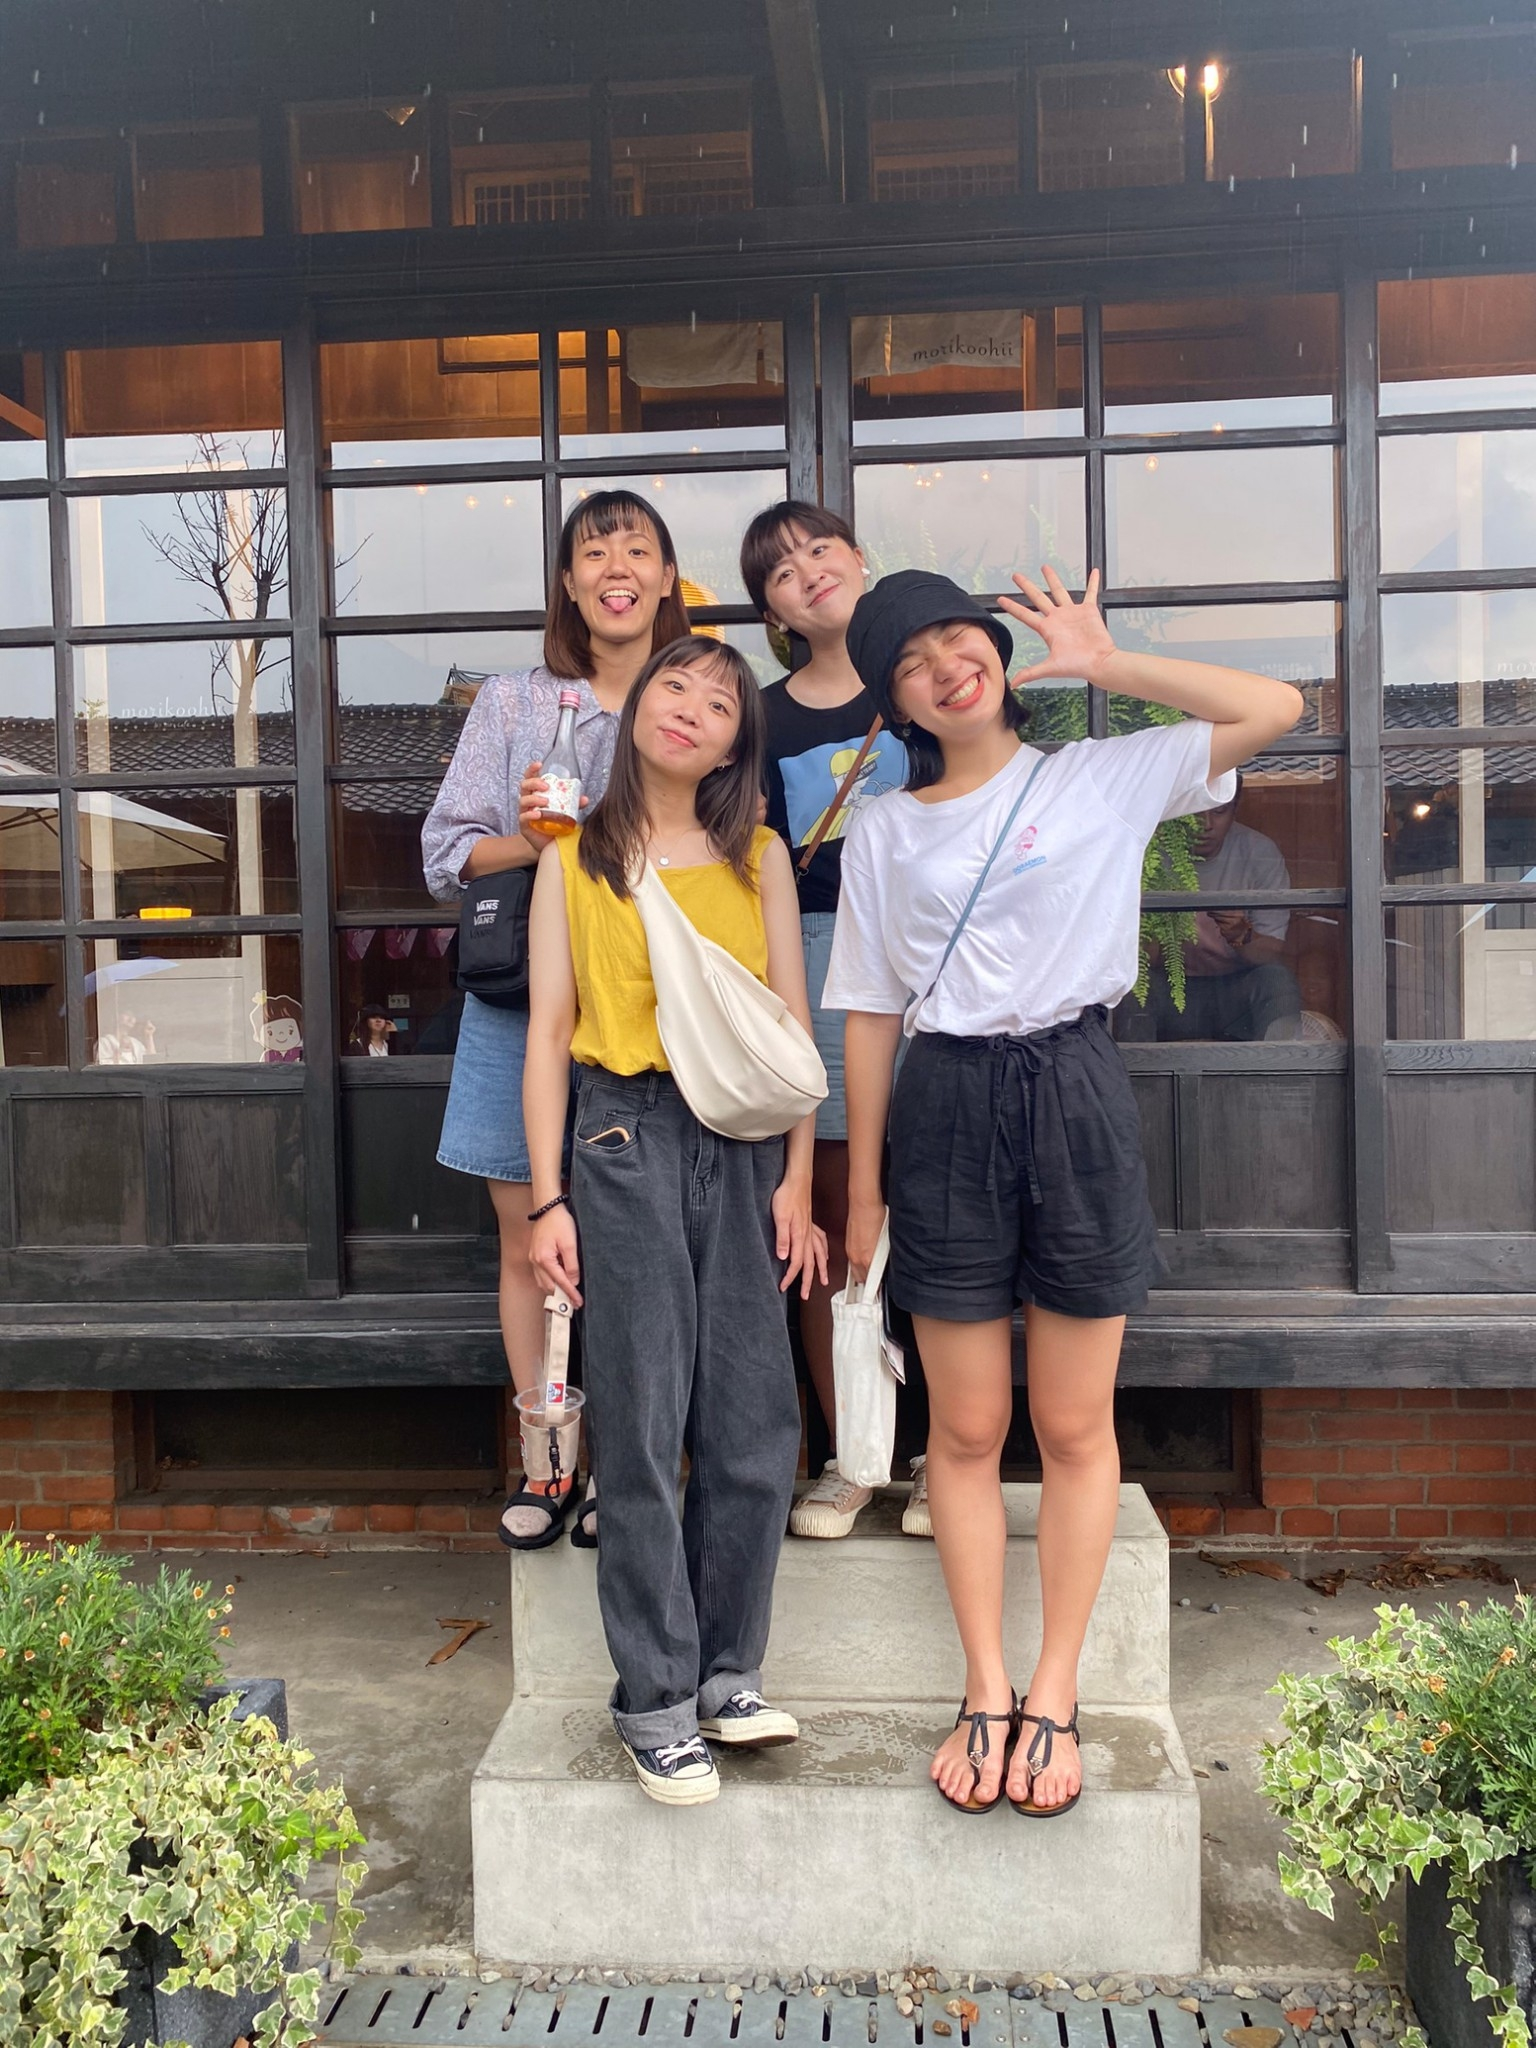people: (840, 570, 1140, 1815), (727, 483, 992, 1541), (576, 638, 798, 1776), (505, 493, 698, 1541)
